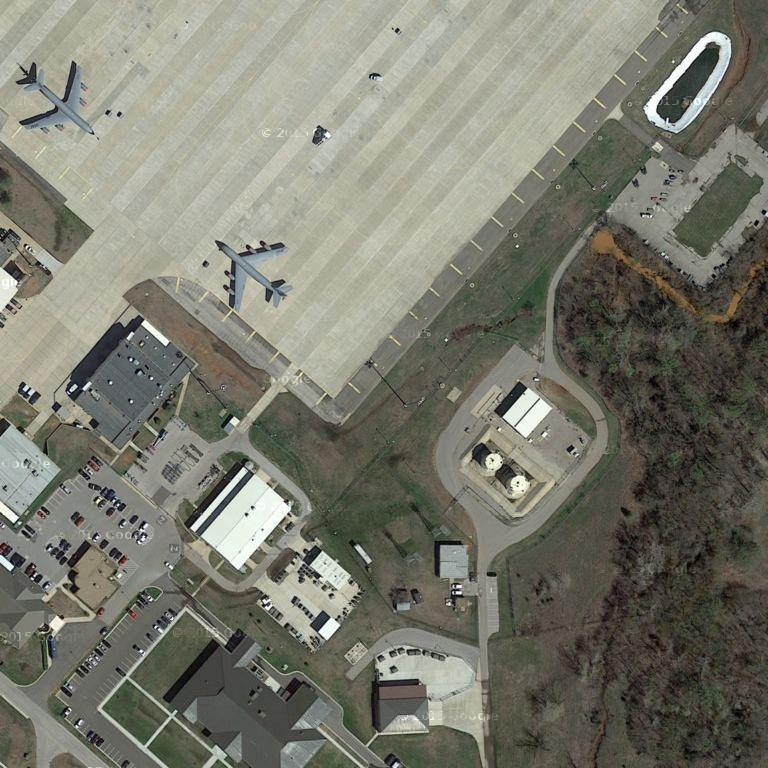KC-135: (212, 238, 297, 313), (14, 63, 97, 139)
